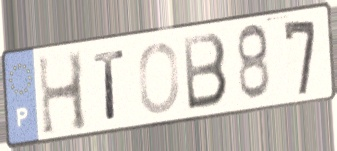7: (282, 18, 318, 97)
8: (234, 22, 272, 106)
B: (181, 30, 231, 114)
H: (35, 48, 91, 139)
O: (137, 39, 182, 116)
T: (91, 47, 127, 122)
